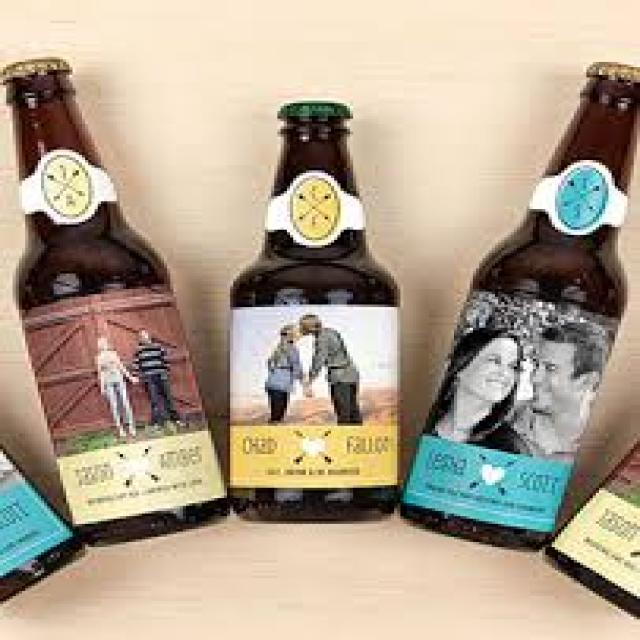glass: (397, 72, 637, 550), (3, 67, 227, 542), (224, 114, 397, 521), (539, 426, 637, 619), (0, 444, 88, 609)
metal: (0, 54, 69, 77), (580, 60, 637, 78), (274, 101, 344, 111)
